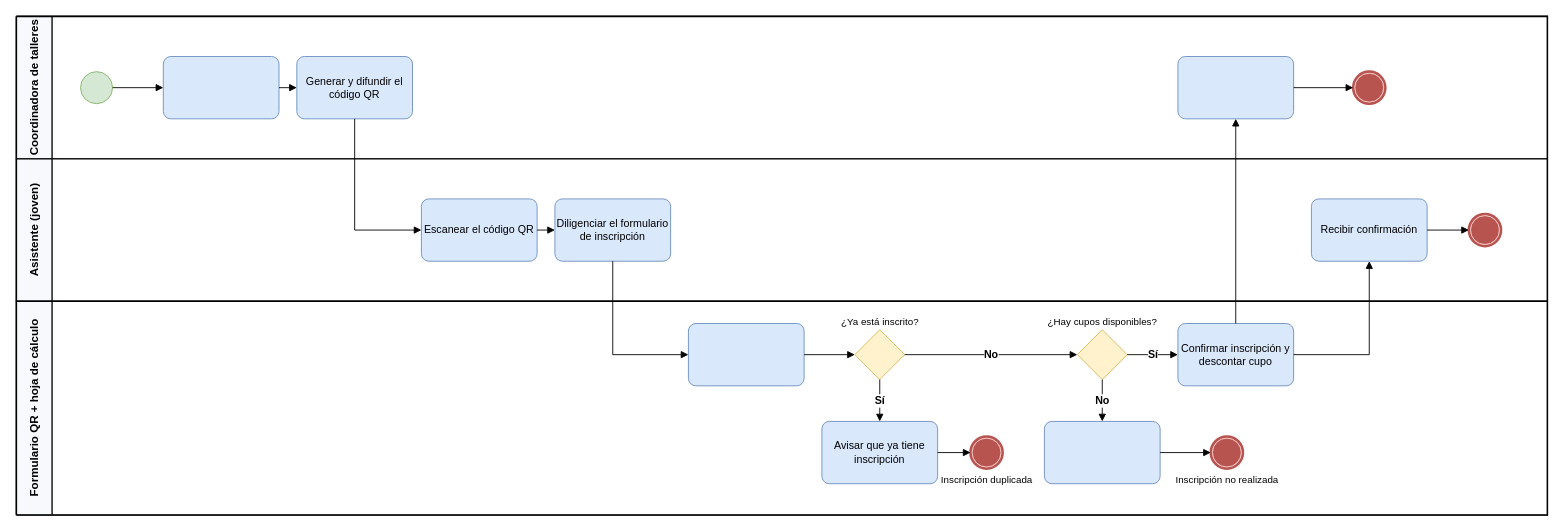
Some shapes in this 1563 by 530 pixel diagram are drawn without their labels. The shapes that lost their labels are listed below. From the top down, each one's centre as x and y in pixels, then its label:
At pixel 96 87: "Taller programado".
At pixel 220 87: "Definir cupo y publicar el taller".
At pixel 1235 87: "Consultar lista de inscritos y cupos".
At pixel 1368 87: "Lista lista para el taller".
At pixel 1484 229: "Inscripción confirmada".
At pixel 746 354: "Registrar datos en la hoja de cálculo".
At pixel 1102 452: "Informar cupo agotado".
